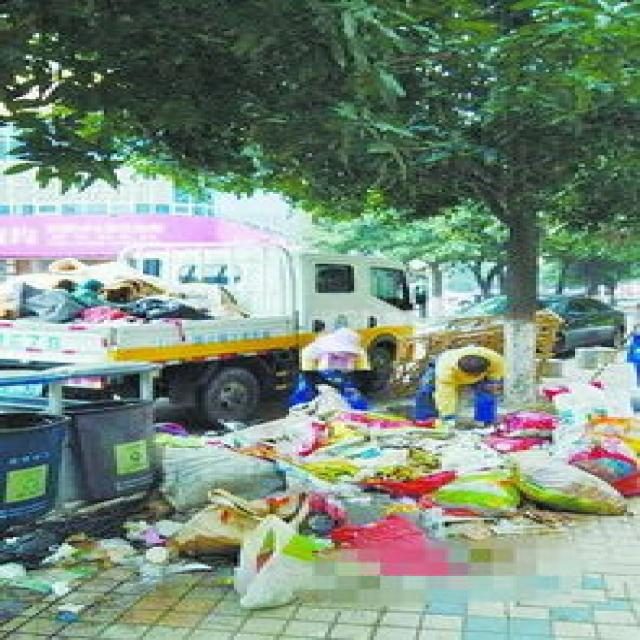garbage: (201, 409, 637, 559), (6, 254, 221, 331), (13, 516, 237, 582)
